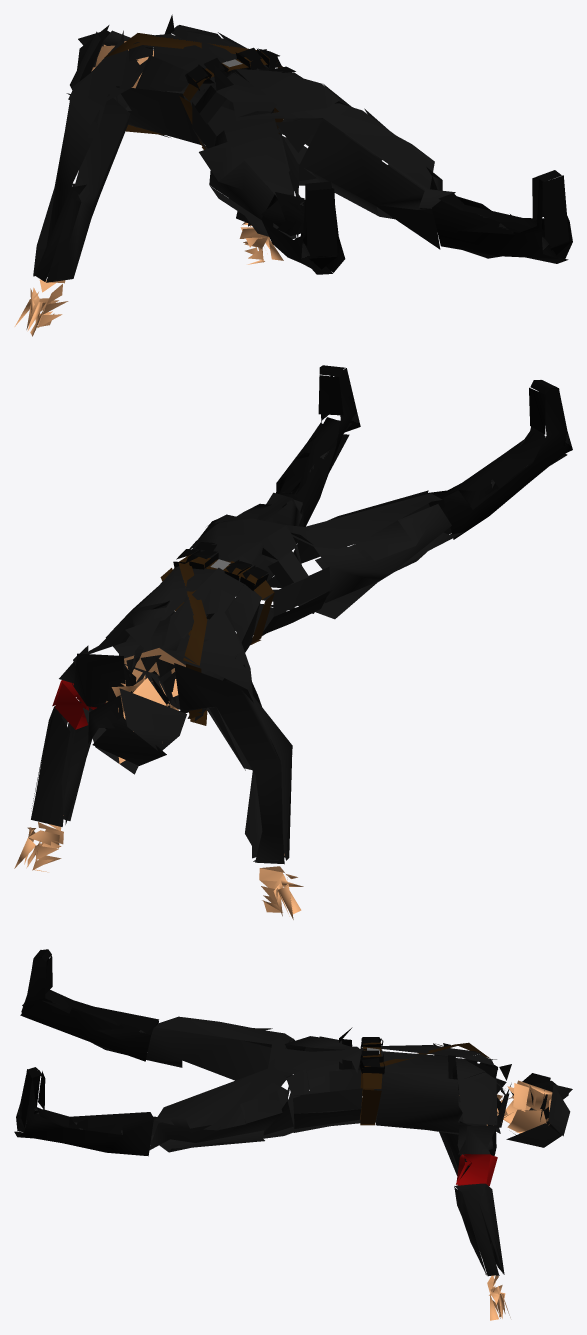
The model's file is dead_sol_sprawl_back.glb.
The picture shows the model from 3 angles, top to bottom: view 1: azimuth 30°, elevation 25°; view 2: azimuth 150°, elevation 25°; view 3: azimuth 270°, elevation 25°; orthographic projection. The views are drawn at different scales.
Parts seen in each view (by area): view 1: Soldier_1, Helmet; view 2: Soldier_1, Helmet; view 3: Soldier_1, Helmet.
Boxes of the visible parts, box(x1,y1,x2,y2) form: Soldier_1: box(14, 14, 572, 336); Helmet: box(66, 25, 138, 99); Soldier_1: box(14, 365, 572, 919); Helmet: box(83, 688, 186, 774); Soldier_1: box(14, 949, 552, 1320); Helmet: box(506, 1073, 572, 1147).
Size of the model in its own units: 0.7878 by 0.9614 by 1.77.
1 material, 1 textured.
